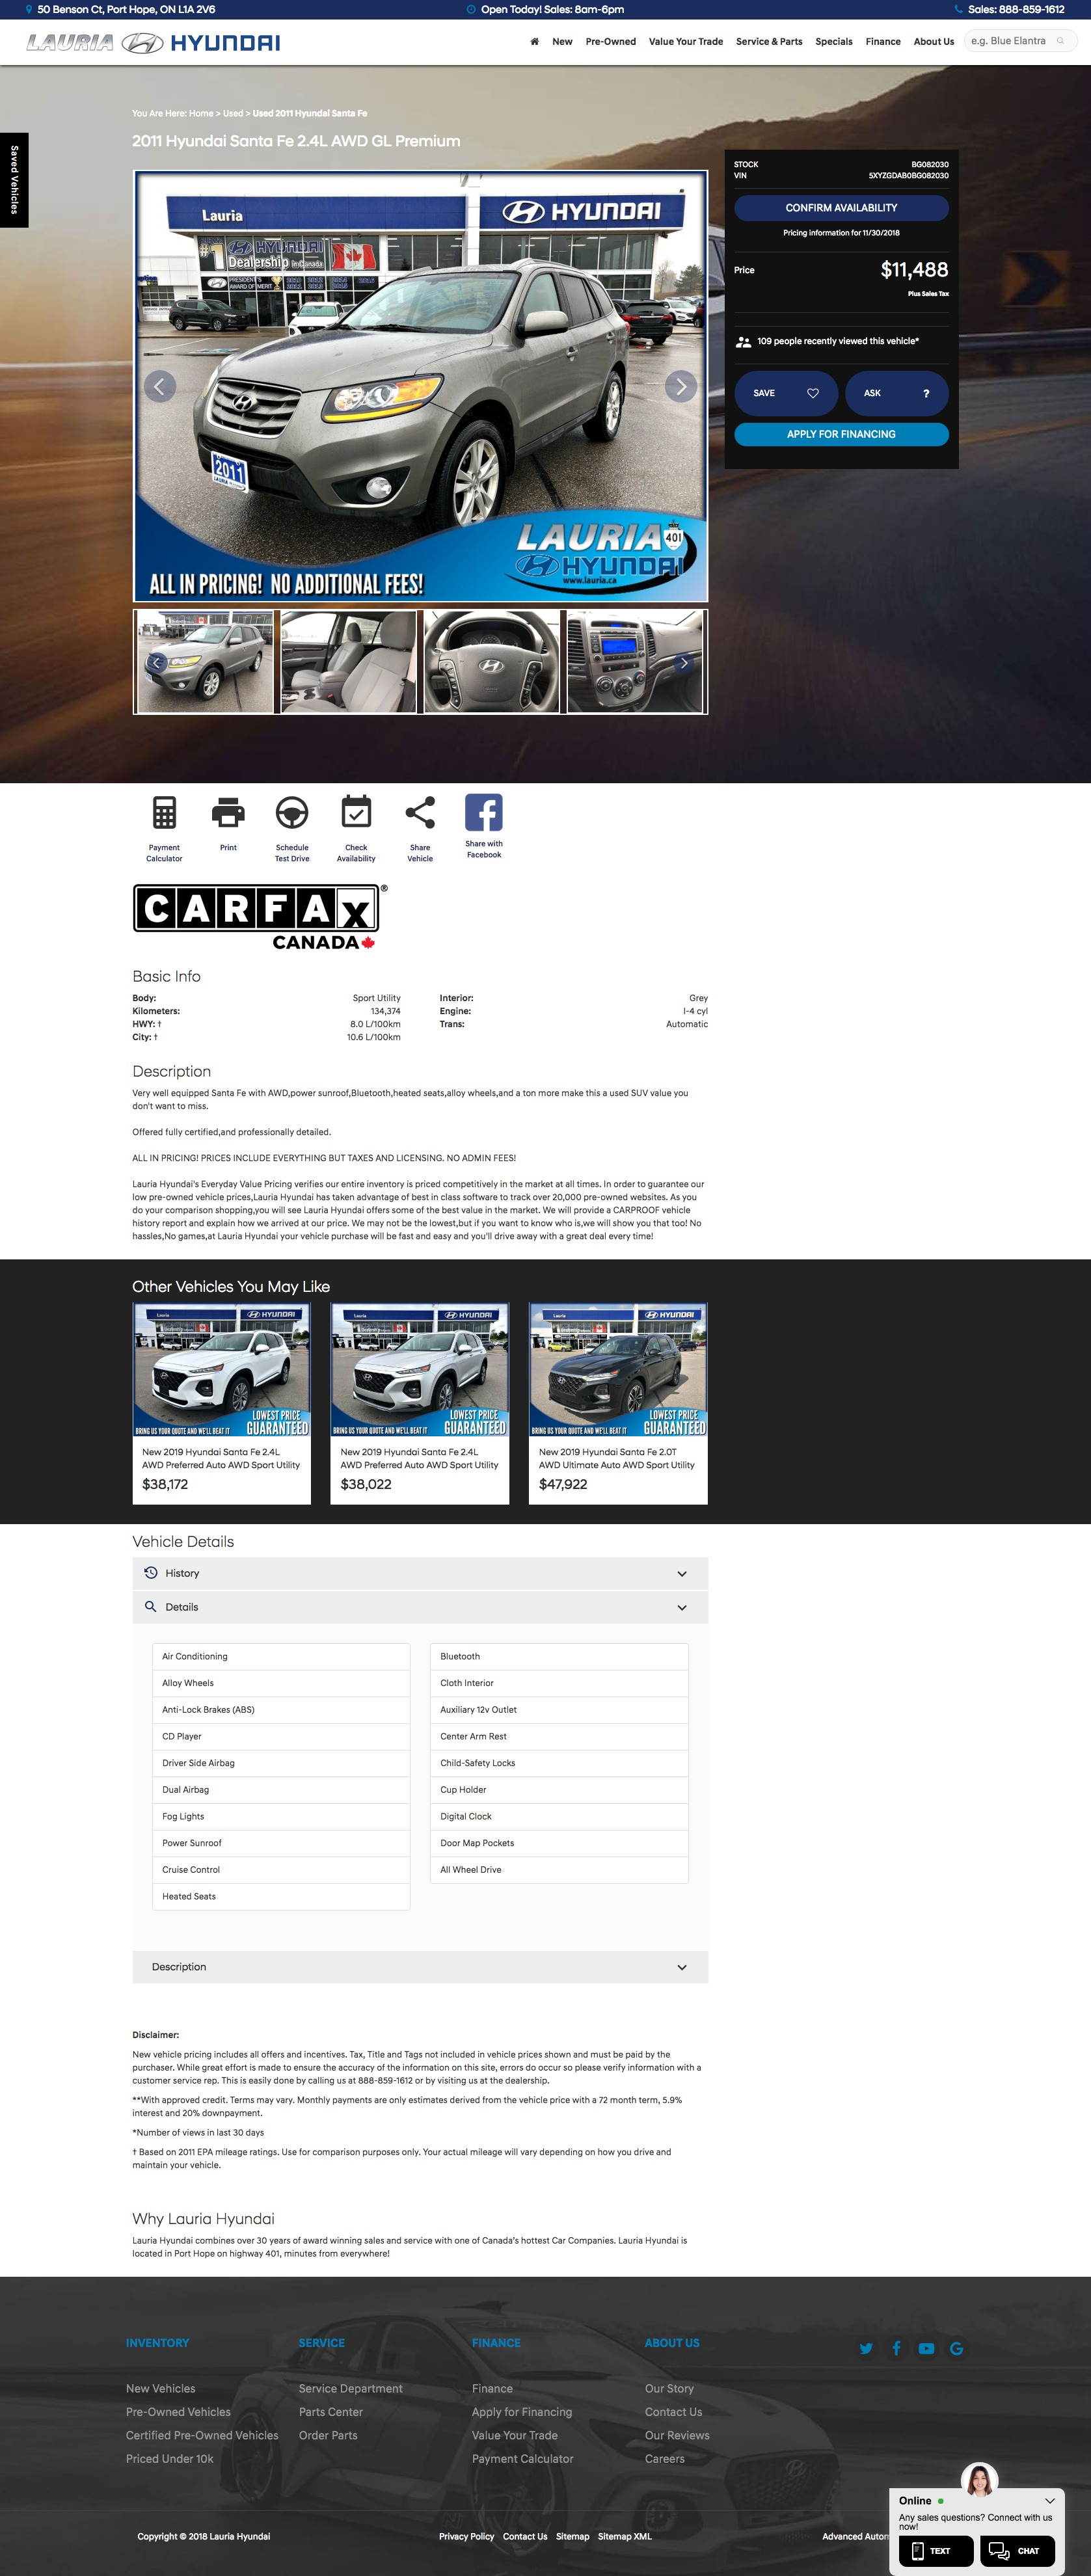car: (662, 370, 700, 406)
